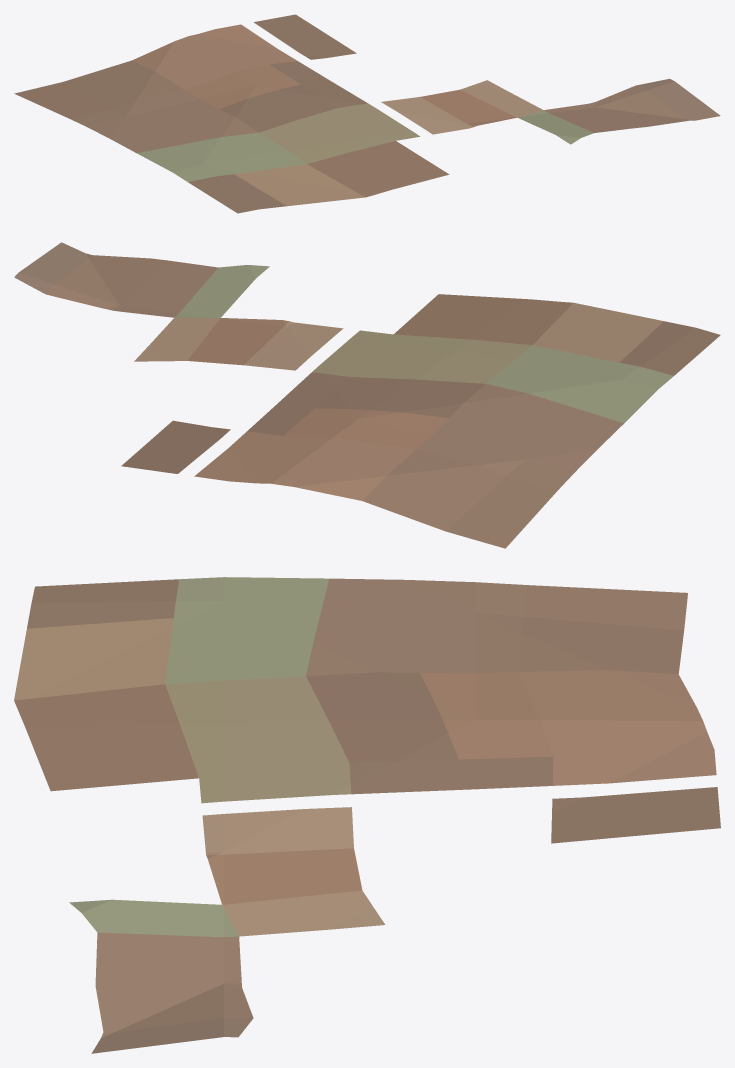
The model's file is farm_15_1_soil.glb.
3 renders of one model, top to bottom at view 1: azimuth 30°, elevation 25°; view 2: azimuth 150°, elevation 25°; view 3: azimuth 270°, elevation 25°, orthographic. The views are drawn at different scales.
Visible parts, largest first — view 1: geometry_0; view 2: geometry_0; view 3: geometry_0.
Boxes of the visible parts, box(x1,y1,x2,y2) form: geometry_0: box(14, 14, 720, 213); geometry_0: box(14, 242, 720, 548); geometry_0: box(14, 577, 720, 1053).
Bounding box in the file's own units: 322 × 23.16 × 224.
